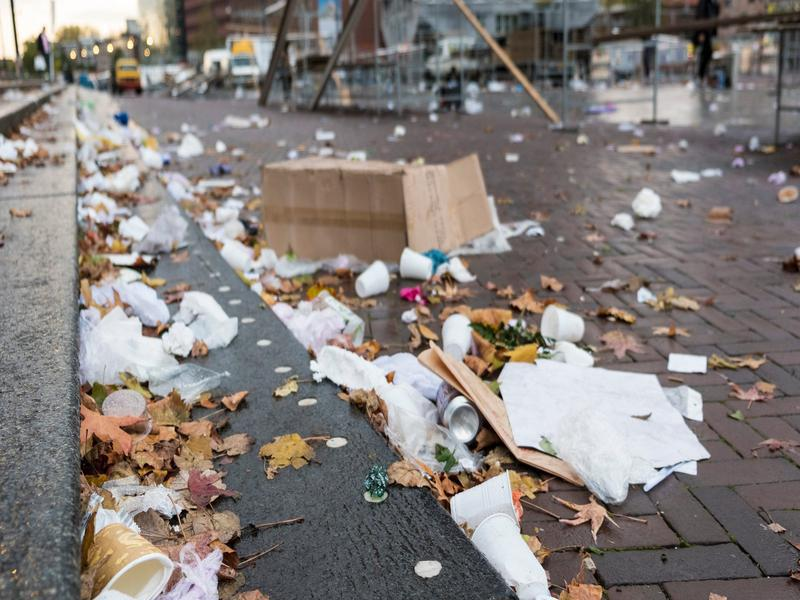cardboard: (247, 142, 498, 262)
cup: (83, 522, 178, 600), (467, 513, 551, 590), (444, 470, 525, 529), (535, 295, 587, 345), (347, 259, 397, 300), (393, 245, 439, 282)
leaf: (79, 400, 147, 463), (254, 429, 332, 480), (548, 492, 619, 544), (176, 466, 249, 504), (597, 326, 653, 365), (722, 373, 781, 409), (217, 382, 255, 414)
paper: (490, 348, 707, 483), (174, 284, 256, 355), (102, 266, 170, 330), (622, 179, 672, 226)
